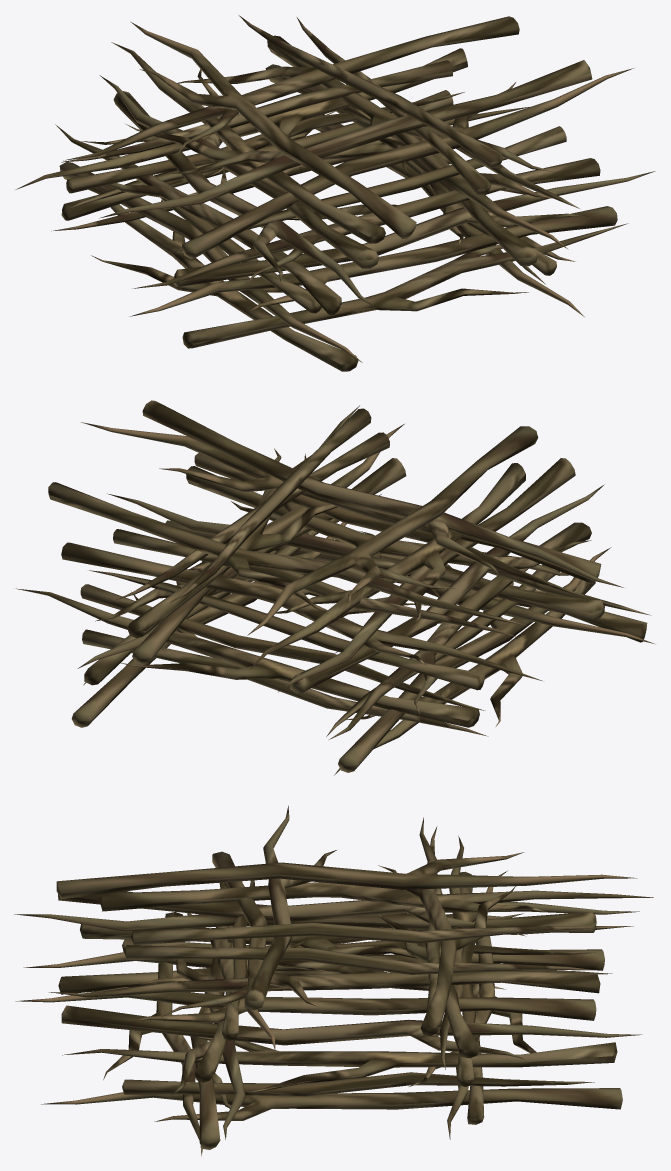
The model's file is Campfire07.fbx.
3 renders of one model, top to bottom at view 1: azimuth 30°, elevation 25°; view 2: azimuth 150°, elevation 25°; view 3: azimuth 270°, elevation 25°, orthographic. The views are drawn at different scales.
Visible parts, largest first — view 1: Campfire07_LOD0; view 2: Campfire07_LOD0; view 3: Campfire07_LOD0.
Part boxes in pixels (x1=…): Campfire07_LOD0: x1=15, y1=15, x2=655, y2=371; Campfire07_LOD0: x1=16, y1=400, x2=655, y2=775; Campfire07_LOD0: x1=14, y1=805, x2=653, y2=1156.
Size of what is drawn, in the model's own units: 59.48 by 17.34 by 58.72.
